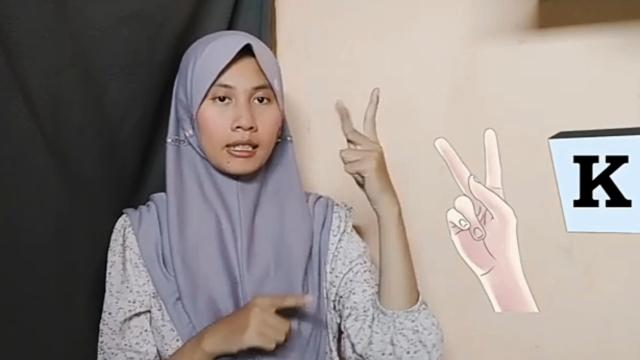K: (329, 86, 396, 204)
